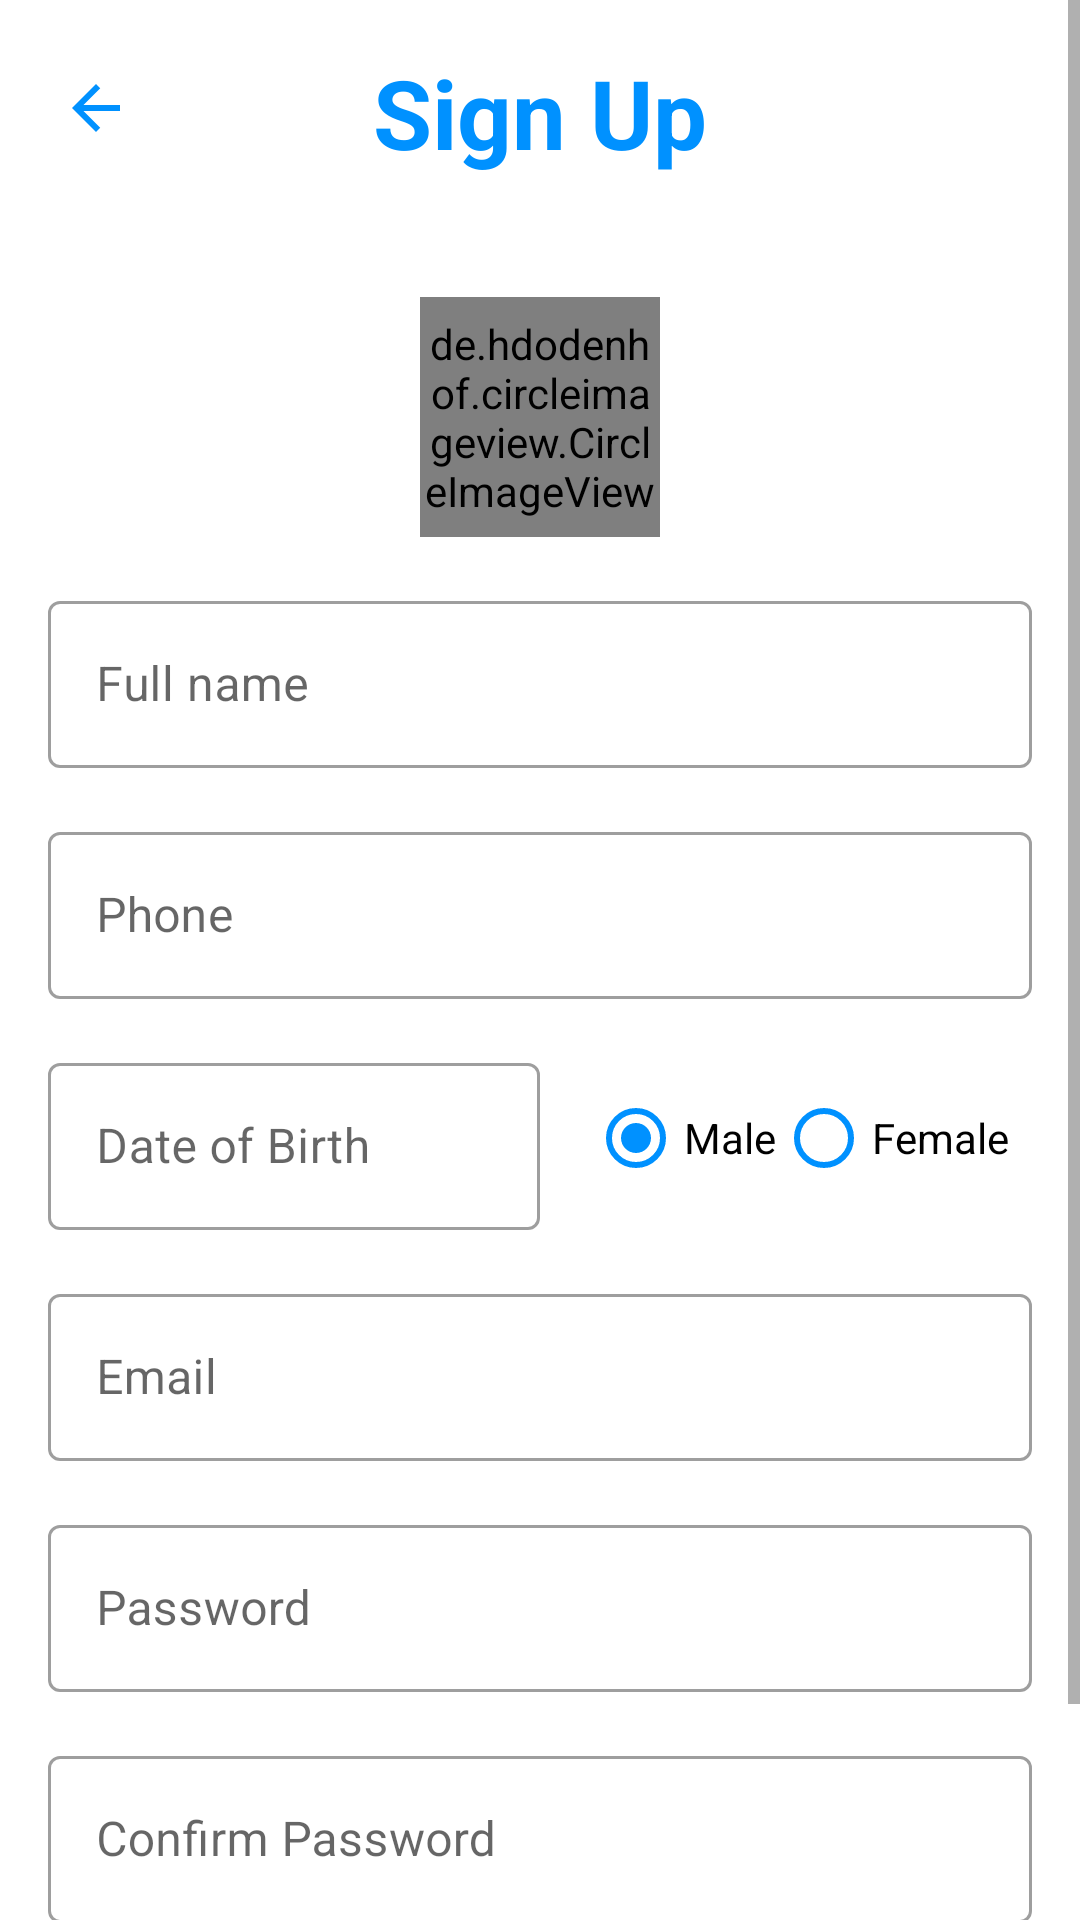

Where to tap for icons on this 1080w x 1920h app screen, as (x=x, y=y):
arrow back: (x=96, y=108)
